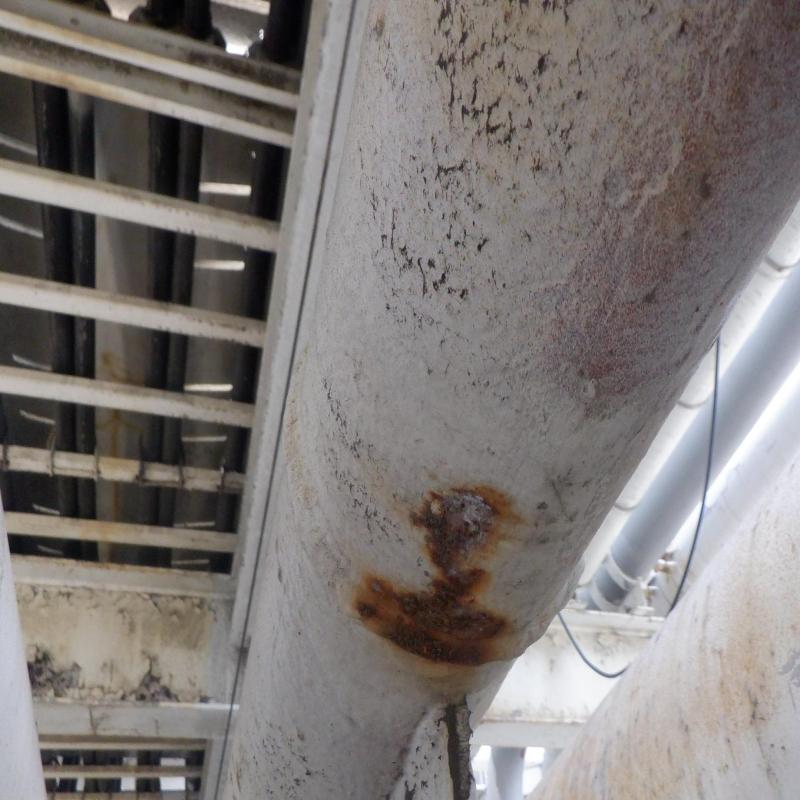corrosion: (392, 519, 506, 686)
